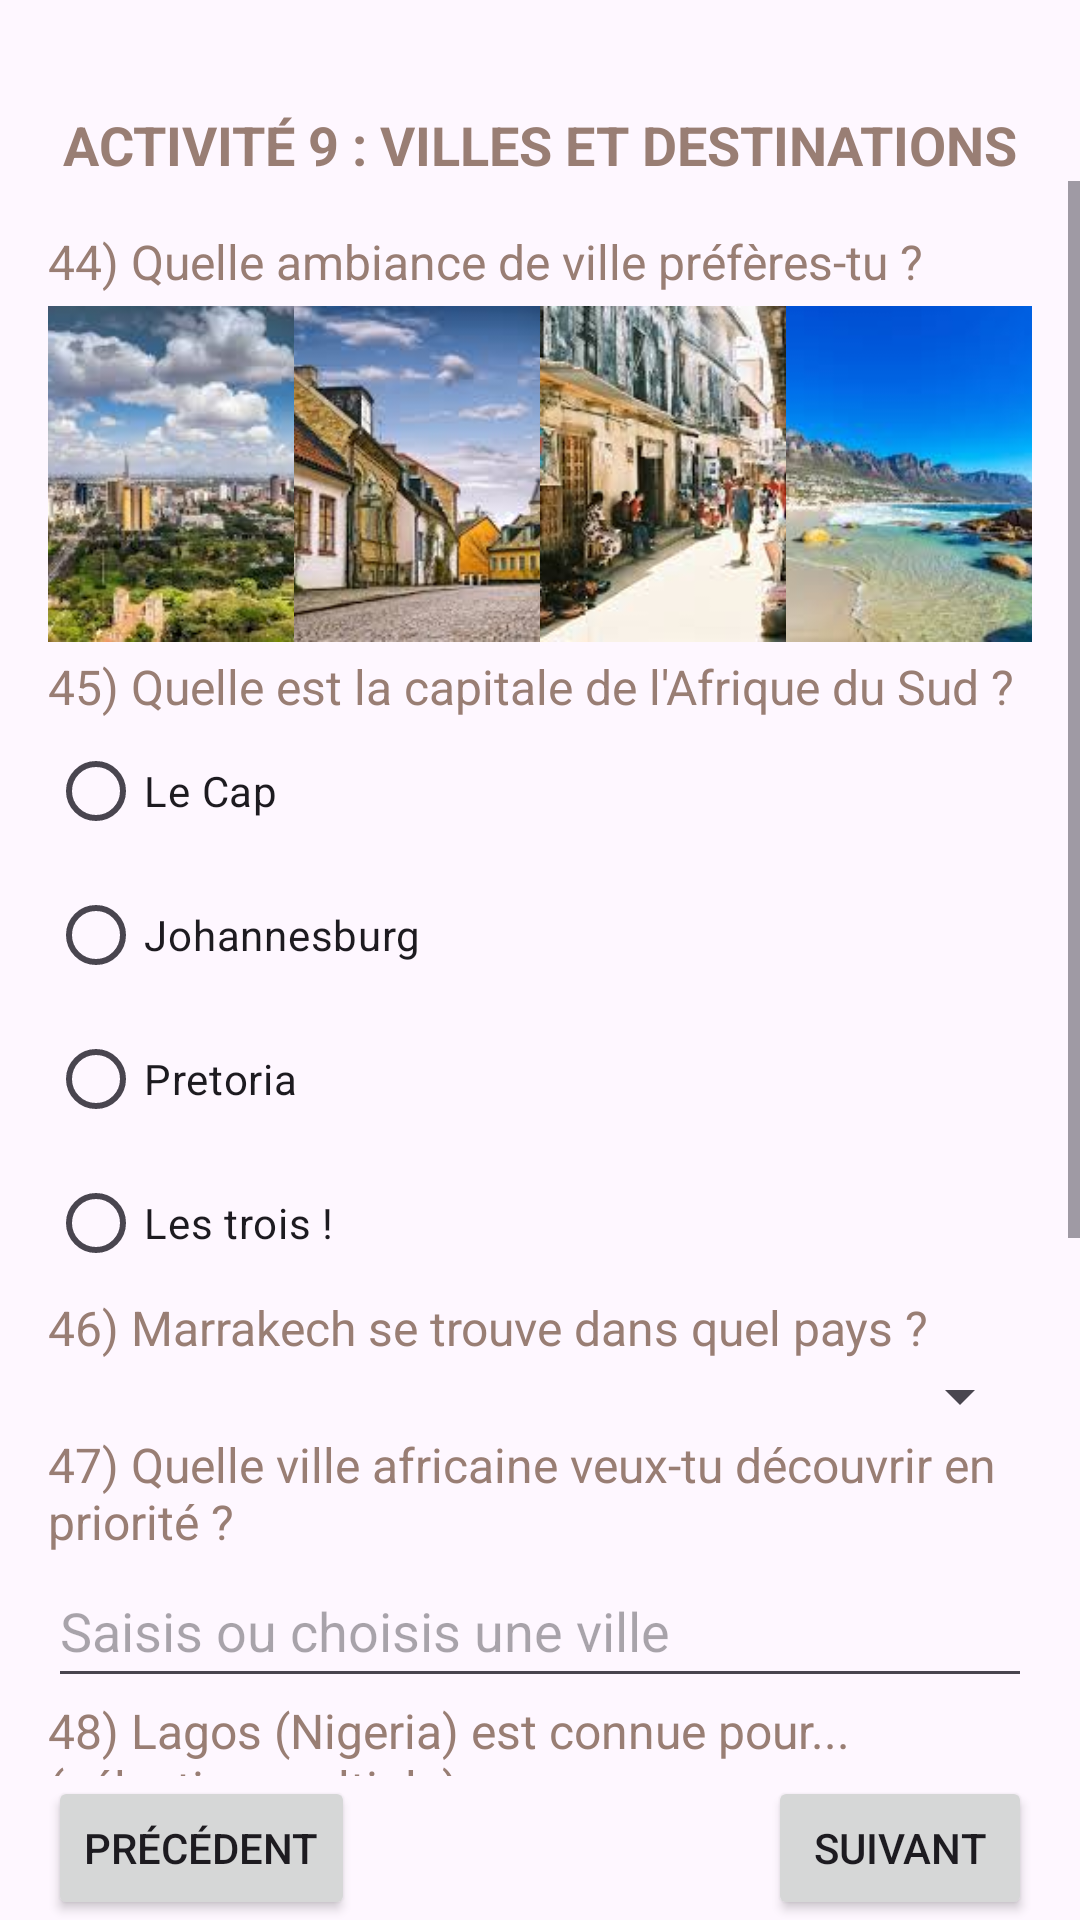

Icons on this 1080 x 1920 Android screen, each with the point to tap as (x=x, y=y):
Ville animée et moderne: (x=171, y=474)
Ville balnéaire: (x=909, y=474)
Ville culturelle: (x=663, y=474)
Ville historique: (x=417, y=474)
